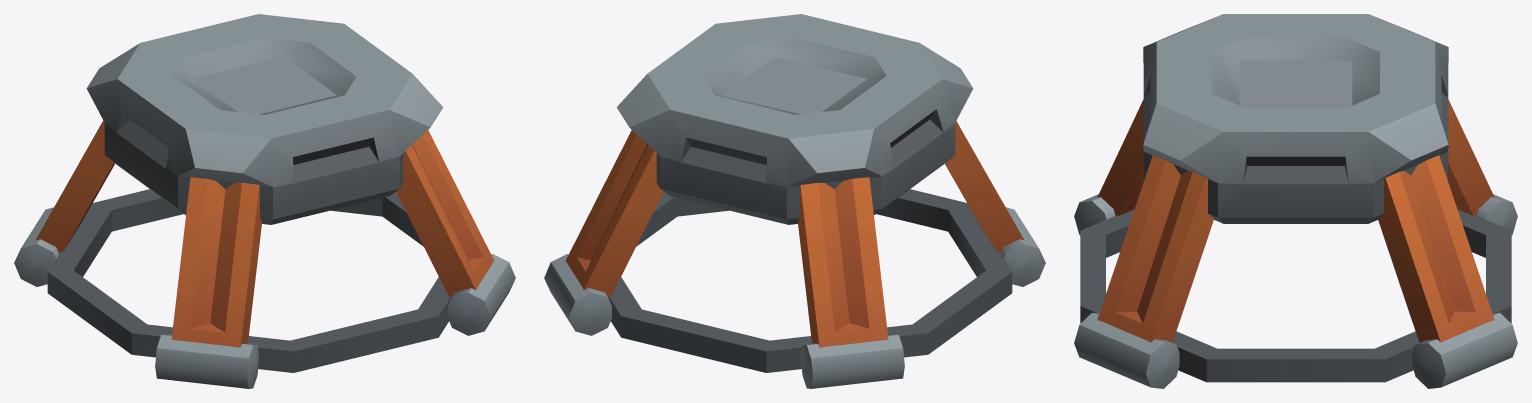
File: structure_low.glb
3 views of the same model, side by side, from view 1: azimuth 30°, elevation 25°; view 2: azimuth 150°, elevation 25°; view 3: azimuth 270°, elevation 25° (orthographic). The views are drawn at different scales.
Visible parts, largest first — view 1: structure_low; view 2: structure_low; view 3: structure_low.
Boxes of the visible parts, bbox=[...] form: structure_low: bbox=[14, 14, 515, 388]; structure_low: bbox=[544, 14, 1045, 388]; structure_low: bbox=[1074, 14, 1517, 388].
Bounding box in the file's own units: 1.75 × 1 × 1.75.
Materials: 1 (1 with a texture image).
